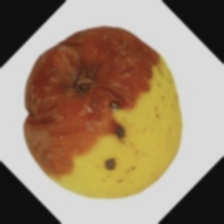apple: (15, 54, 177, 202)
